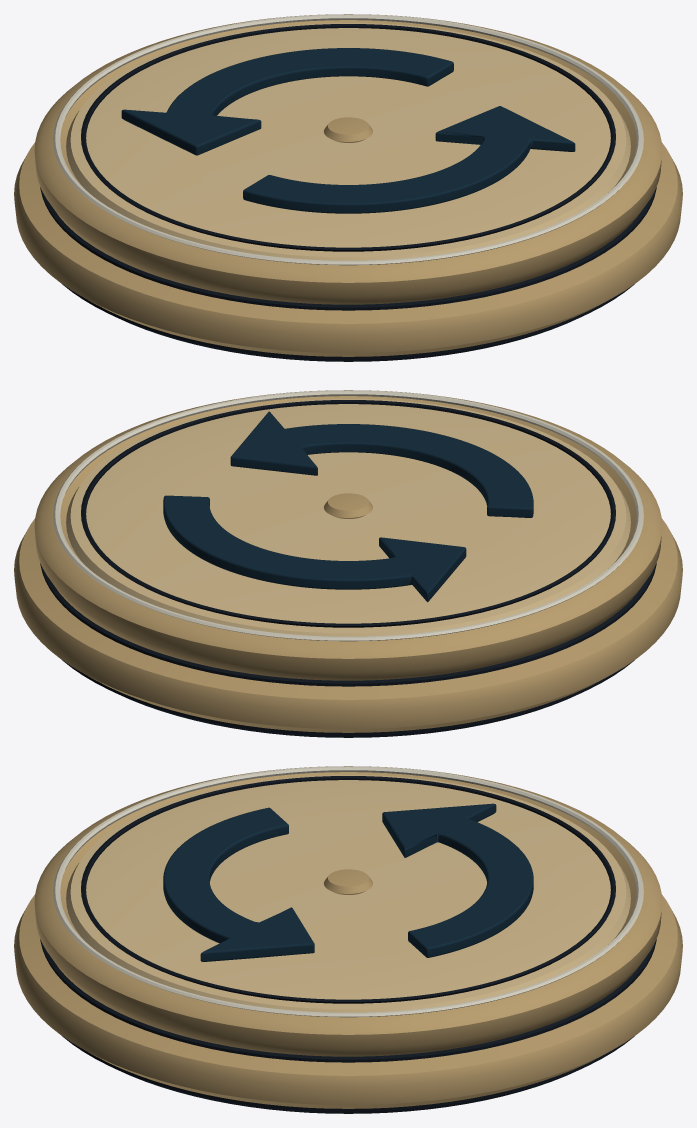
The model's file is reroll-button.glb.
The picture shows the model from 3 angles, top to bottom: view 1: azimuth 30°, elevation 25°; view 2: azimuth 150°, elevation 25°; view 3: azimuth 270°, elevation 25°; orthographic projection.
Visible parts, largest first — view 1: Export Slightly crowned satin face, Export Stationary rolled collar, Export Spring cap turned shoulder, Export Clockwise enamel arrow.001, Export Clockwise enamel arrow, Export Polished fine outer reveal, Export Hairline enamel border, Export Narrow travel shadow, Export Recessed mounting foot, Export Center brass pivot; view 2: Export Slightly crowned satin face, Export Stationary rolled collar, Export Spring cap turned shoulder, Export Clockwise enamel arrow, Export Clockwise enamel arrow.001, Export Polished fine outer reveal, Export Hairline enamel border, Export Narrow travel shadow, Export Recessed mounting foot, Export Center brass pivot; view 3: Export Slightly crowned satin face, Export Stationary rolled collar, Export Spring cap turned shoulder, Export Clockwise enamel arrow.001, Export Clockwise enamel arrow, Export Polished fine outer reveal, Export Hairline enamel border, Export Narrow travel shadow, Export Recessed mounting foot, Export Center brass pivot.
Boxes of the visible parts, x1,y1,x2,y2 form: Export Slightly crowned satin face: (66,22,630,260); Export Stationary rolled collar: (14,142,682,356); Export Spring cap turned shoulder: (34,14,662,304); Export Clockwise enamel arrow.001: (243,106,575,213); Export Clockwise enamel arrow: (121,48,453,155); Export Polished fine outer reveal: (53,14,643,265); Export Hairline enamel border: (81,24,615,251); Export Narrow travel shadow: (40,187,656,310); Export Recessed mounting foot: (62,284,634,361); Export Center brass pivot: (324,117,372,142); Export Slightly crowned satin face: (66,398,630,636); Export Stationary rolled collar: (14,518,682,732); Export Spring cap turned shoulder: (34,390,662,680); Export Clockwise enamel arrow: (163,495,466,602); Export Clockwise enamel arrow.001: (230,411,533,517); Export Polished fine outer reveal: (53,390,643,641); Export Hairline enamel border: (81,400,615,627); Export Narrow travel shadow: (40,563,656,686); Export Recessed mounting foot: (62,660,634,737); Export Center brass pivot: (324,493,372,518); Export Slightly crowned satin face: (66,774,630,1012); Export Stationary rolled collar: (14,894,682,1108); Export Spring cap turned shoulder: (34,766,662,1056); Export Clockwise enamel arrow.001: (163,807,314,961); Export Clockwise enamel arrow: (382,803,533,957); Export Polished fine outer reveal: (53,766,643,1017); Export Hairline enamel border: (81,776,615,1003); Export Narrow travel shadow: (40,939,656,1062); Export Recessed mounting foot: (62,1036,634,1113); Export Center brass pivot: (324,869,372,894).
Size of the model in its own units: 0.065 by 0.0115 by 0.065.
